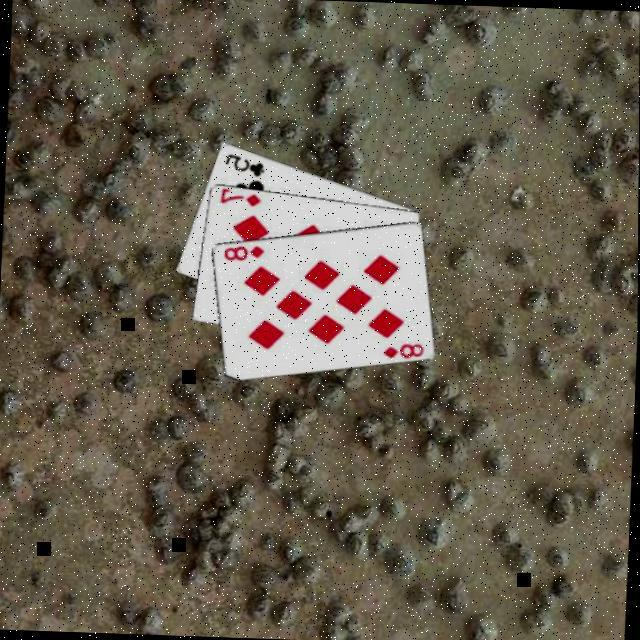5C: (222, 152, 268, 182)
7D: (217, 189, 264, 211)
8D: (221, 243, 268, 267), (380, 340, 427, 364)
